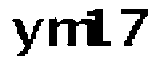1: (84, 7, 114, 50)
7: (118, 5, 149, 52)
m: (48, 18, 96, 53)
y: (9, 16, 45, 59)
